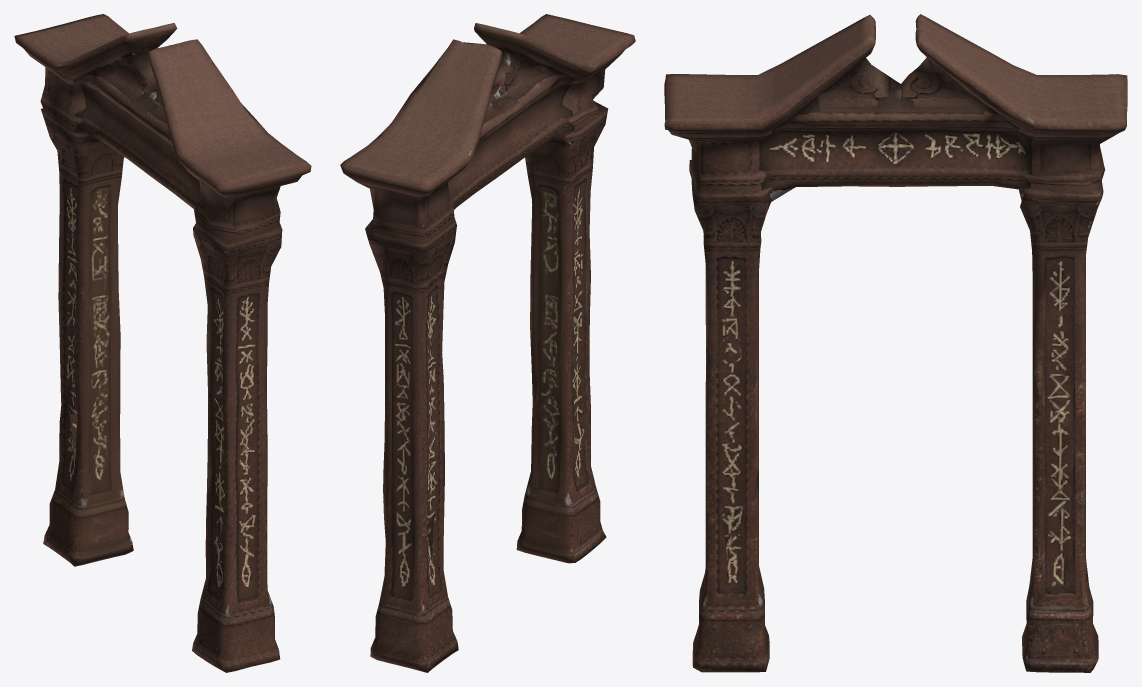
File: victorianDoorWay.glb
3 renders of one model, left to right at view 1: azimuth 30°, elevation 25°; view 2: azimuth 150°, elevation 25°; view 3: azimuth 270°, elevation 25°, orthographic. The views are drawn at different scales.
Visible parts, largest first — view 1: tripo_node_3722a3da-9fb5-42a2-bbd0-fb57152b7a2f; view 2: tripo_node_3722a3da-9fb5-42a2-bbd0-fb57152b7a2f; view 3: tripo_node_3722a3da-9fb5-42a2-bbd0-fb57152b7a2f.
Boxes of the visible parts, left/top/right/bottom form: tripo_node_3722a3da-9fb5-42a2-bbd0-fb57152b7a2f: left=14, top=14, right=311, bottom=672; tripo_node_3722a3da-9fb5-42a2-bbd0-fb57152b7a2f: left=340, top=14, right=635, bottom=672; tripo_node_3722a3da-9fb5-42a2-bbd0-fb57152b7a2f: left=664, top=14, right=1127, bottom=672.
Bounding box in the file's own units: 0.1688 × 0.9782 × 0.6509.
Materials: 1 (1 with a texture image).
